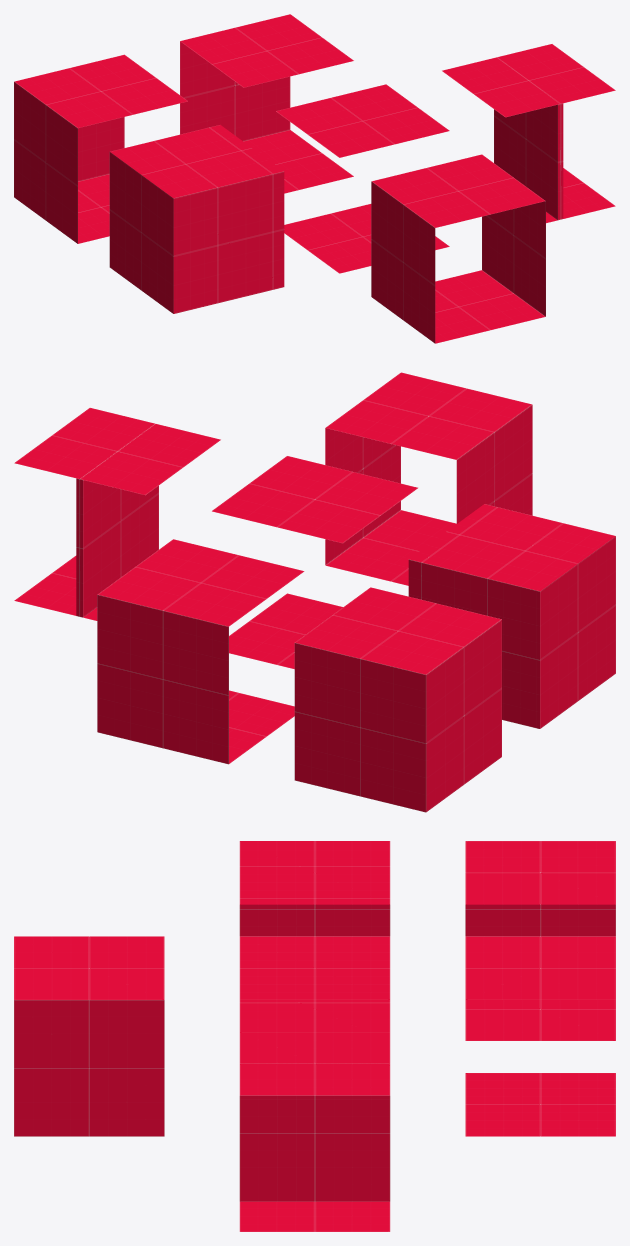
Rendered from tilemap2.glb.
3 renders of one model, top to bottom at view 1: azimuth 30°, elevation 25°; view 2: azimuth 150°, elevation 25°; view 3: azimuth 270°, elevation 25°, orthographic. The views are drawn at different scales.
Visible parts, largest first — view 1: dead-col, way-col, corner-col, wall-col, solidWall-col, floor-col; view 2: corner-col, wall-col, dead-col, way-col, solidWall-col, floor-col; view 3: solidWall-col, way-col, corner-col, dead-col, wall-col, floor-col.
Part boxes in pixels (x1,y1,x2,y2): dead-col: (109,125,284,313); way-col: (371,154,545,343); corner-col: (14,54,187,243); wall-col: (180,14,353,193); solidWall-col: (442,44,615,223); floor-col: (276,84,449,273); corner-col: (294,587,501,812); wall-col: (97,539,304,764); dead-col: (408,504,615,728); way-col: (325,372,532,585); solidWall-col: (14,407,220,620); floor-col: (212,456,418,669); solidWall-col: (239,1032,390,1231); way-col: (14,936,164,1136); corner-col: (465,841,615,1040); dead-col: (239,841,390,1031); wall-col: (465,936,615,1136); floor-col: (239,936,390,999).
Size of the model in its own units: 8 by 2 by 8.
Materials: 1 (1 with a texture image).
